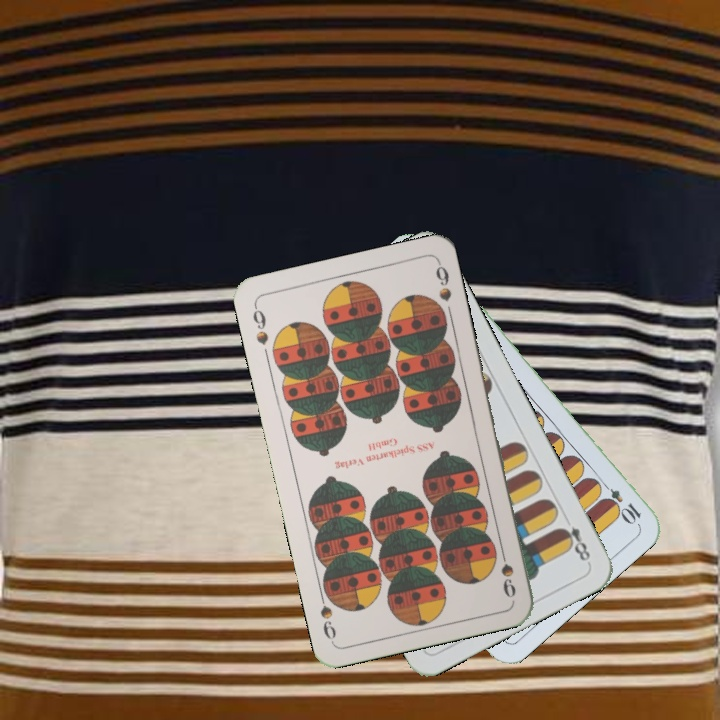E10: (595, 476, 644, 526)
E8: (555, 511, 593, 566)
S9: (496, 542, 519, 601), (249, 301, 271, 348)
